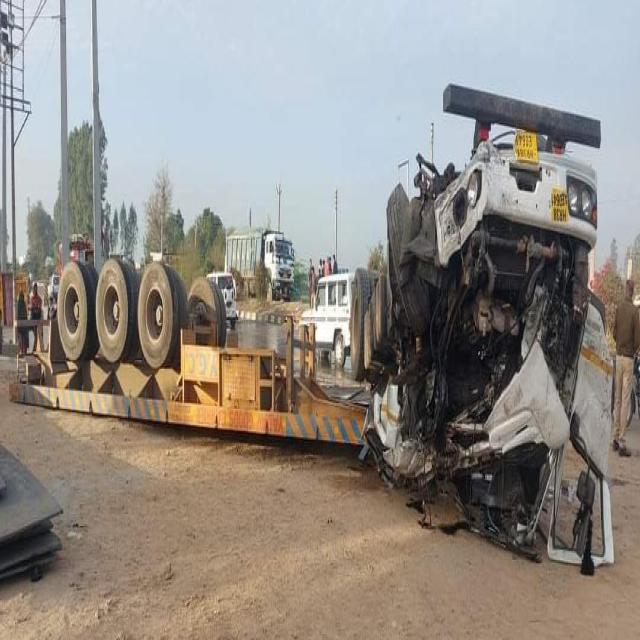accident: (11, 84, 612, 566)
car: (300, 269, 354, 364)
truck: (225, 228, 295, 298)
